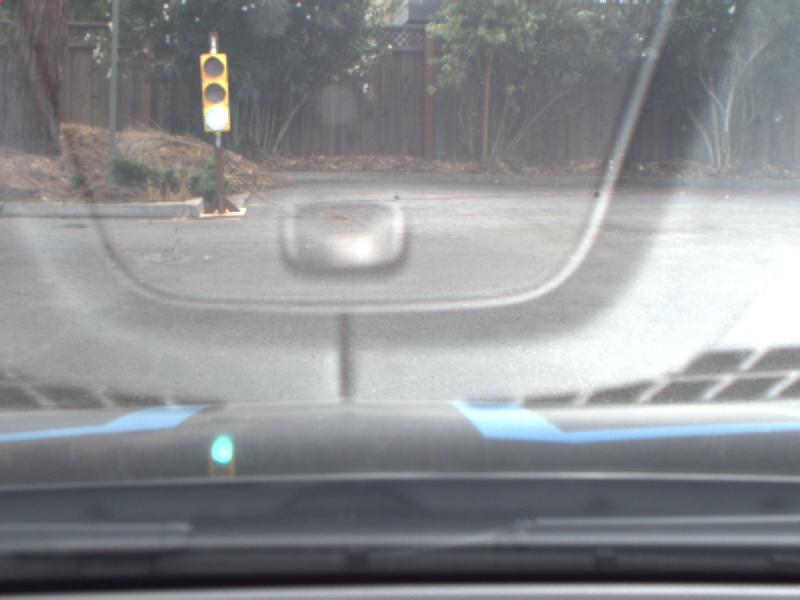green: (198, 47, 234, 139)
